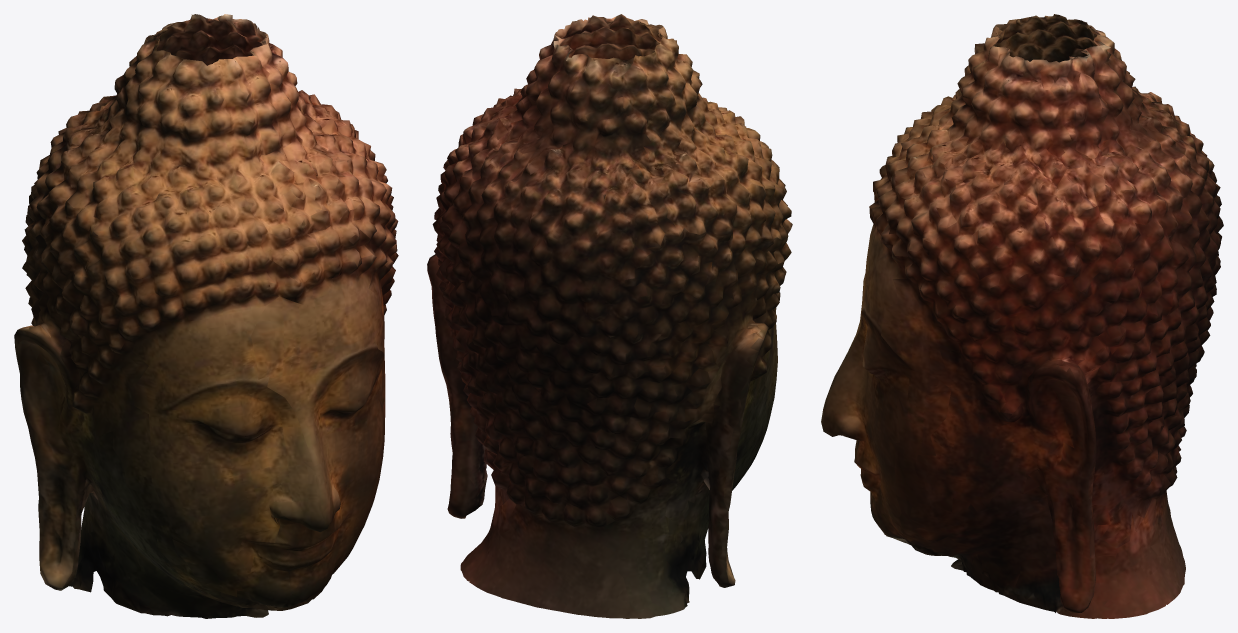
3 views of the same model, side by side, from view 1: azimuth 30°, elevation 25°; view 2: azimuth 150°, elevation 25°; view 3: azimuth 270°, elevation 25° (orthographic). The views are drawn at different scales.
Parts seen in each view (by area): view 1: statue-013; view 2: statue-013; view 3: statue-013.
Boxes of the visible parts, x1,y1,x2,y2 form: statue-013: (14, 14, 398, 618); statue-013: (427, 14, 792, 618); statue-013: (821, 14, 1223, 618).
Size of the model in its own units: 0.6785 by 1 by 0.6924.
1 material, 1 textured.
